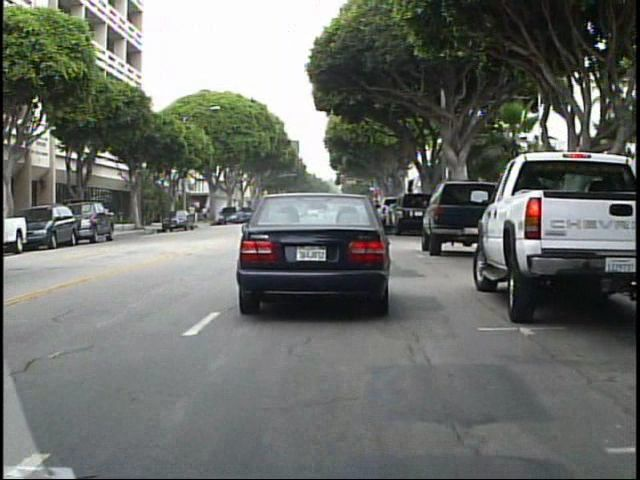person: (186, 202, 198, 227), (200, 202, 212, 226)
